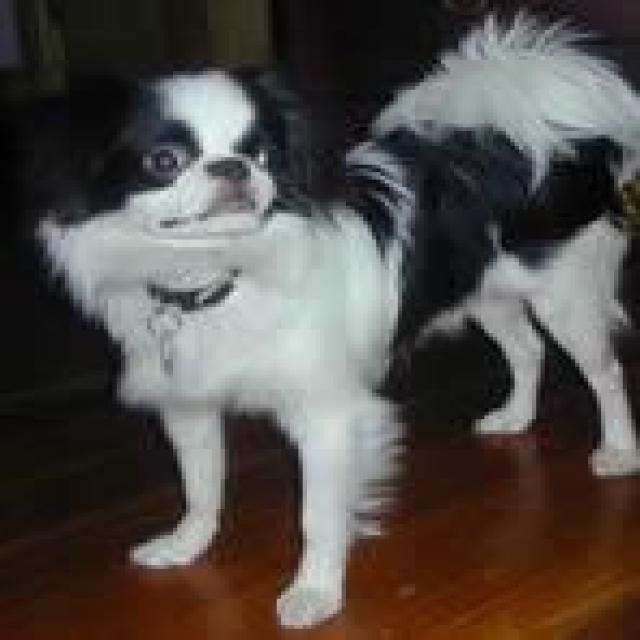husky: (34, 8, 632, 622)
